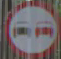No overtake: (7, 6, 55, 45)
